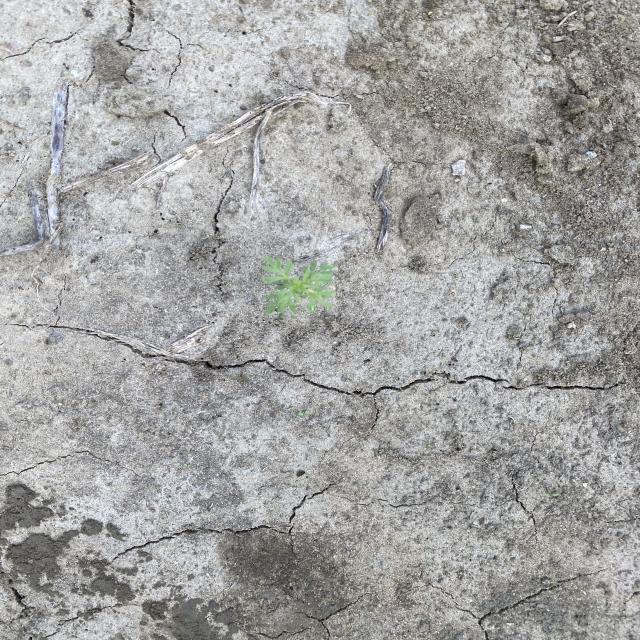Ragweed: (255, 253, 339, 318)
